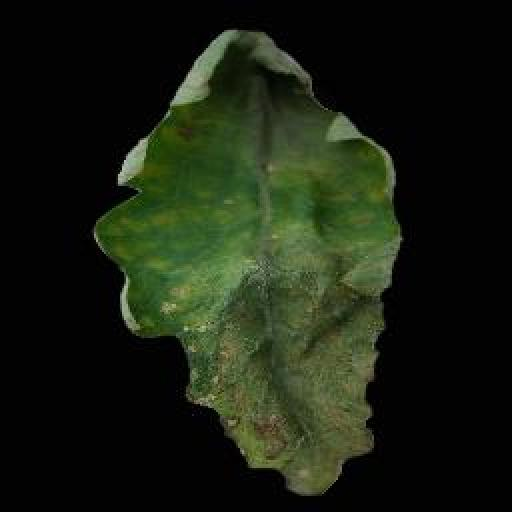disease_tomato: (95, 32, 405, 496)
